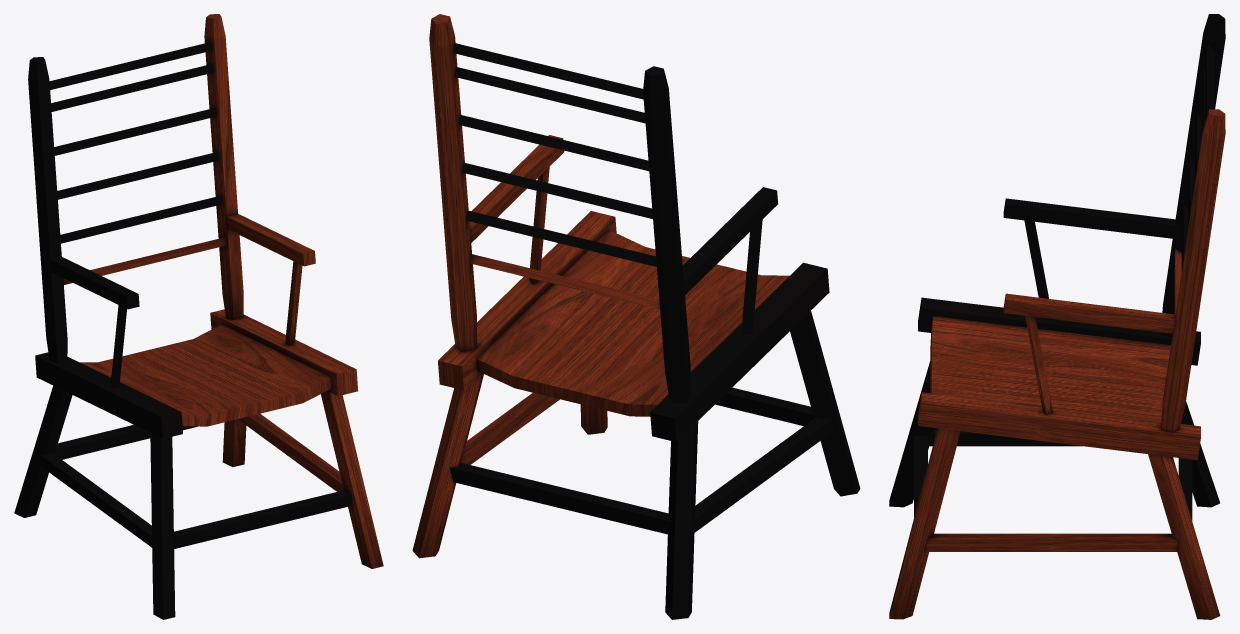
The model's file is misc_chair01.gltf.
3 views of the same model, side by side, from view 1: azimuth 30°, elevation 25°; view 2: azimuth 150°, elevation 25°; view 3: azimuth 270°, elevation 25° (orthographic). The views are drawn at different scales.
Visible parts, largest first — view 1: misc_chair01; view 2: misc_chair01; view 3: misc_chair01.
Boxes of the visible parts, x1,y1,x2,y2 form: misc_chair01: (14,14,383,619); misc_chair01: (412,14,860,619); misc_chair01: (889,14,1225,619).
Size of the model in its own units: 1.13 by 2.13 by 1.31.
Materials: 1 (1 with a texture image).
